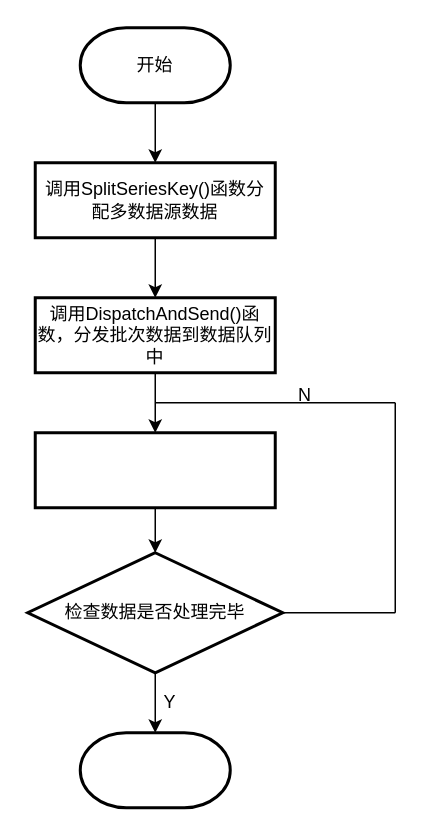
Image size: 423x834. Some labels were removed from this diagram. Here are the shapes that lost their labels. From the top down, the centre of each, then its label:
At point 154,469: "调用查询算子函数处理数据队列中的数据".
At point 154,769: "结束".
